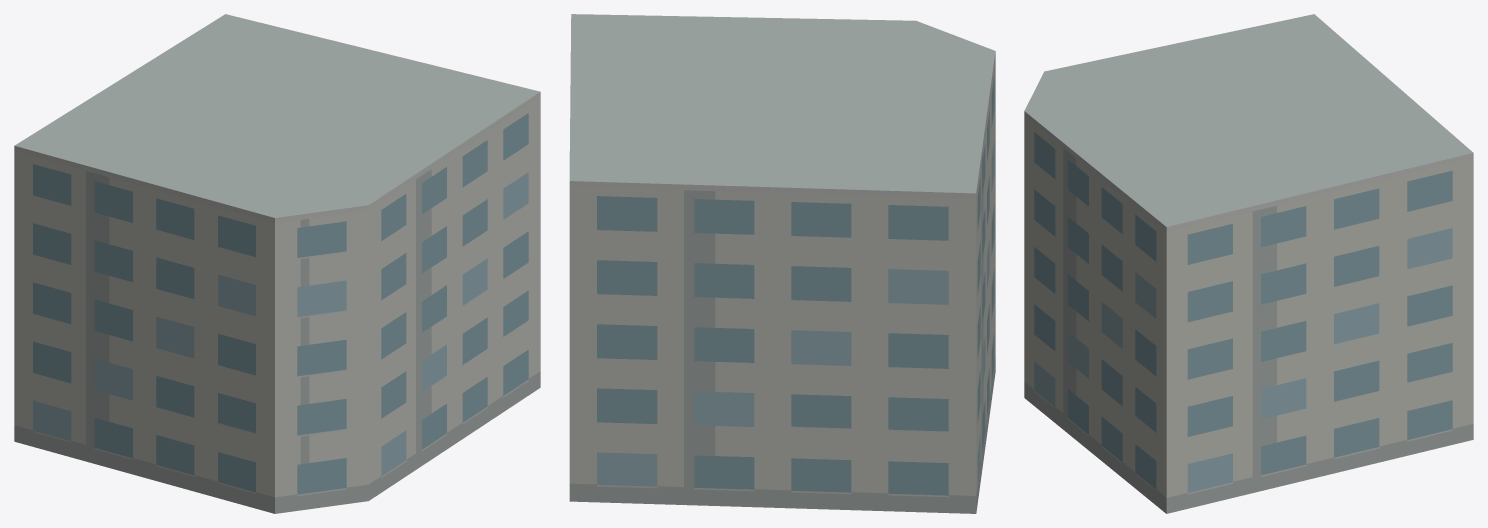
The model's file is survey-upis-32838315.glb.
3 renders of one model, left to right at view 1: azimuth 30°, elevation 25°; view 2: azimuth 150°, elevation 25°; view 3: azimuth 270°, elevation 25°, orthographic. The views are drawn at different scales.
Visible parts, largest first — view 1: survey-upis-32838315.tmp; view 2: survey-upis-32838315.tmp; view 3: survey-upis-32838315.tmp.
Boxes of the visible parts, bbox=[...] form: survey-upis-32838315.tmp: bbox=[14, 14, 540, 513]; survey-upis-32838315.tmp: bbox=[569, 14, 995, 513]; survey-upis-32838315.tmp: bbox=[1024, 14, 1473, 513].
Size of the model in its own units: 21.5 by 13.5 by 19.17.
